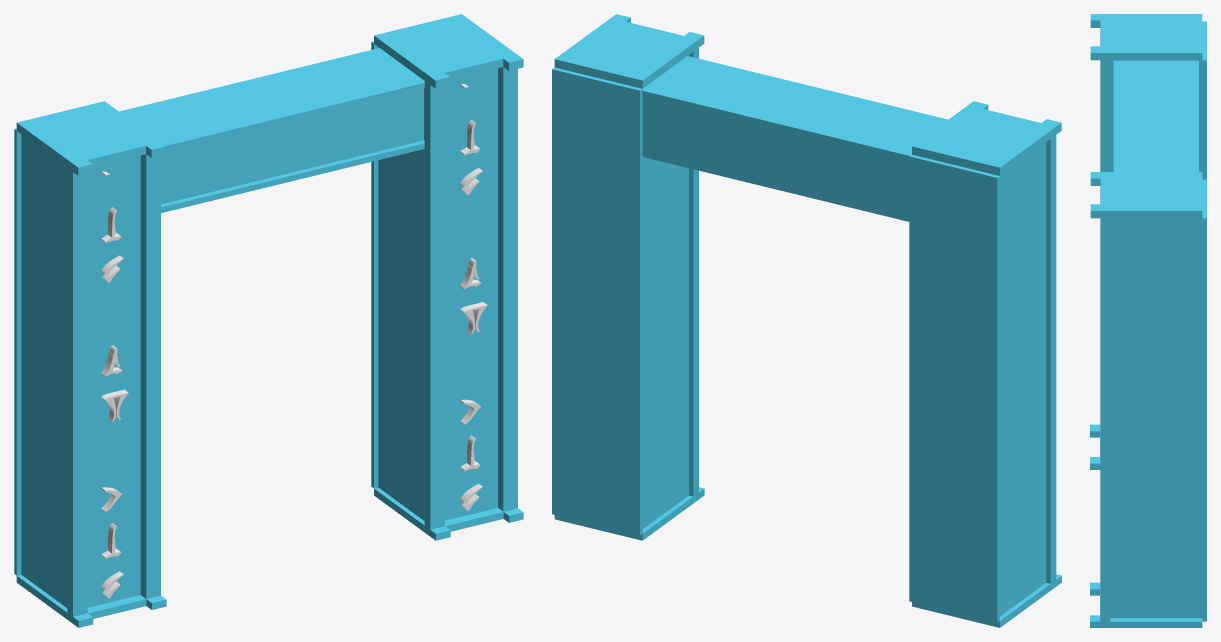
File: mdl_portal_03.fbx
The picture shows the model from 3 angles, left to right: view 1: azimuth 30°, elevation 25°; view 2: azimuth 150°, elevation 25°; view 3: azimuth 270°, elevation 25°; orthographic projection. The views are drawn at different scales.
Parts seen in each view (by area): view 1: pillar_r_1, Curve, Curve.001; view 2: pillar_r_1; view 3: pillar_r_1.
Part boxes in pixels (bbox=[...]): pillar_r_1: bbox=[14, 14, 523, 627]; Curve: bbox=[101, 171, 128, 598]; Curve.001: bbox=[460, 84, 487, 510]; pillar_r_1: bbox=[552, 14, 1061, 627]; pillar_r_1: bbox=[1090, 14, 1206, 627].
Bounding box in the file's own units: 304 × 300 × 76.25.
